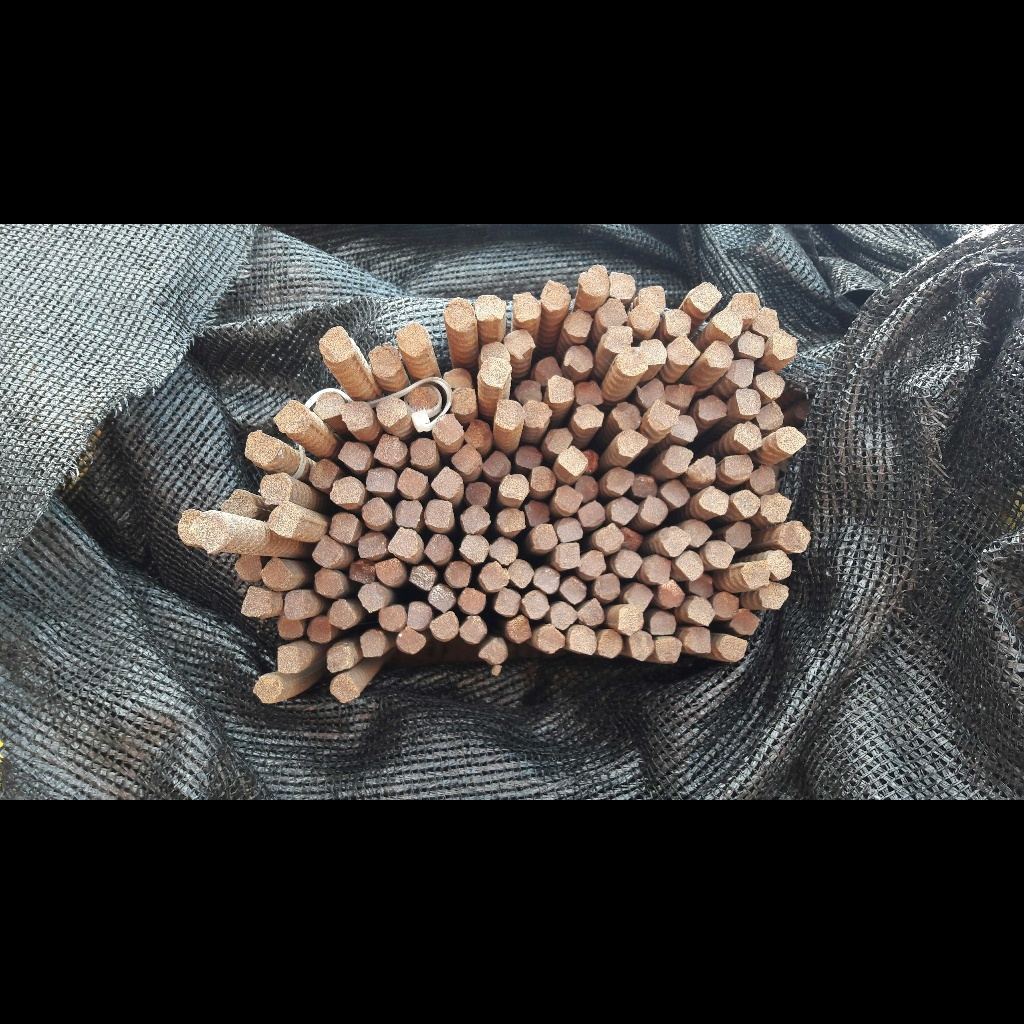dipstick: (193, 511, 227, 555), (272, 400, 310, 437), (243, 431, 280, 469), (396, 321, 431, 359), (443, 297, 478, 335), (174, 508, 204, 550), (317, 325, 351, 362), (366, 343, 399, 380), (337, 438, 368, 477), (372, 396, 407, 430), (373, 433, 407, 468), (430, 411, 463, 447), (476, 356, 513, 388), (236, 586, 273, 618), (308, 459, 341, 494), (612, 429, 650, 459), (474, 293, 508, 326), (561, 343, 595, 376), (259, 557, 292, 591), (387, 527, 420, 561), (779, 520, 812, 554), (405, 381, 440, 413), (578, 263, 610, 298), (266, 504, 297, 540), (686, 282, 722, 313), (223, 489, 256, 522), (430, 466, 463, 499), (329, 476, 363, 508), (310, 536, 344, 568), (338, 401, 373, 432), (310, 567, 345, 598), (666, 335, 701, 366), (494, 397, 524, 433), (504, 327, 537, 359), (397, 467, 429, 500), (458, 504, 491, 536), (658, 525, 690, 558), (703, 539, 736, 571), (407, 435, 438, 469), (421, 533, 452, 567), (257, 474, 292, 504), (392, 495, 422, 530), (520, 399, 552, 431), (487, 534, 519, 566), (702, 340, 734, 372), (698, 486, 730, 518), (510, 292, 543, 323), (313, 390, 344, 423), (539, 279, 572, 310), (481, 448, 512, 481), (252, 675, 285, 706), (328, 674, 361, 705), (695, 393, 728, 424), (648, 400, 681, 431), (721, 453, 752, 486), (424, 498, 454, 532), (359, 498, 391, 529), (326, 598, 357, 630), (711, 310, 743, 341), (754, 369, 786, 400), (716, 633, 748, 664), (764, 549, 796, 580), (758, 579, 789, 611), (774, 425, 807, 455), (597, 627, 626, 661), (613, 347, 648, 375), (323, 643, 354, 674), (495, 506, 526, 537), (635, 377, 666, 408), (731, 387, 762, 418), (733, 420, 764, 451), (761, 492, 792, 523), (741, 559, 772, 590), (449, 387, 479, 419), (365, 467, 397, 497), (450, 443, 482, 473), (231, 553, 263, 583), (326, 513, 358, 543), (356, 581, 386, 613), (531, 563, 561, 595), (598, 297, 628, 329), (640, 494, 670, 526), (683, 517, 713, 549), (614, 549, 644, 581), (616, 603, 646, 635), (650, 636, 682, 666), (681, 625, 713, 655), (442, 363, 475, 392), (464, 418, 493, 451), (358, 628, 387, 661), (549, 600, 578, 633), (508, 556, 534, 592), (512, 376, 543, 406), (457, 535, 488, 565), (491, 587, 522, 617), (558, 575, 589, 605), (628, 302, 659, 332), (731, 291, 761, 322), (558, 445, 588, 476), (689, 455, 719, 486), (609, 495, 640, 525), (731, 487, 761, 518), (724, 519, 754, 550), (280, 589, 309, 621), (273, 644, 305, 673), (429, 611, 458, 643), (478, 562, 510, 591), (537, 624, 566, 656), (568, 625, 597, 657), (640, 554, 672, 583), (623, 581, 655, 610), (732, 607, 761, 639), (601, 324, 634, 352), (628, 629, 654, 664), (576, 550, 606, 580), (499, 473, 530, 502), (304, 615, 333, 646), (395, 626, 426, 655), (477, 637, 508, 666), (521, 589, 550, 620), (611, 401, 642, 430), (603, 467, 634, 496), (458, 614, 486, 646), (659, 479, 691, 507), (687, 594, 715, 626), (478, 339, 512, 365), (564, 309, 593, 339), (523, 497, 553, 526), (663, 308, 693, 337), (512, 441, 543, 469), (357, 532, 388, 560), (530, 522, 558, 553), (635, 285, 666, 313), (752, 307, 780, 338), (663, 444, 694, 472), (657, 579, 685, 610), (405, 600, 432, 632), (506, 613, 533, 645), (608, 270, 635, 302), (578, 598, 604, 631), (773, 329, 799, 362), (377, 605, 406, 634), (443, 559, 472, 588), (737, 331, 766, 360), (756, 401, 785, 430), (533, 355, 563, 383), (548, 375, 576, 405), (555, 484, 583, 514), (638, 338, 668, 366), (671, 414, 699, 444), (543, 426, 574, 453), (556, 541, 583, 572), (574, 379, 605, 406), (676, 550, 703, 581), (572, 405, 604, 431), (664, 384, 697, 409), (428, 584, 456, 613), (594, 523, 622, 552), (594, 572, 622, 601), (463, 480, 493, 507), (347, 558, 377, 585), (457, 588, 487, 615), (555, 516, 585, 543), (728, 358, 755, 388), (713, 590, 740, 620), (409, 562, 434, 594), (374, 558, 402, 586), (750, 465, 777, 494), (648, 610, 677, 637), (273, 616, 305, 640), (578, 501, 606, 528), (687, 572, 716, 598), (632, 473, 659, 500), (530, 466, 556, 494), (576, 474, 600, 503), (621, 523, 644, 552), (581, 447, 602, 474)
